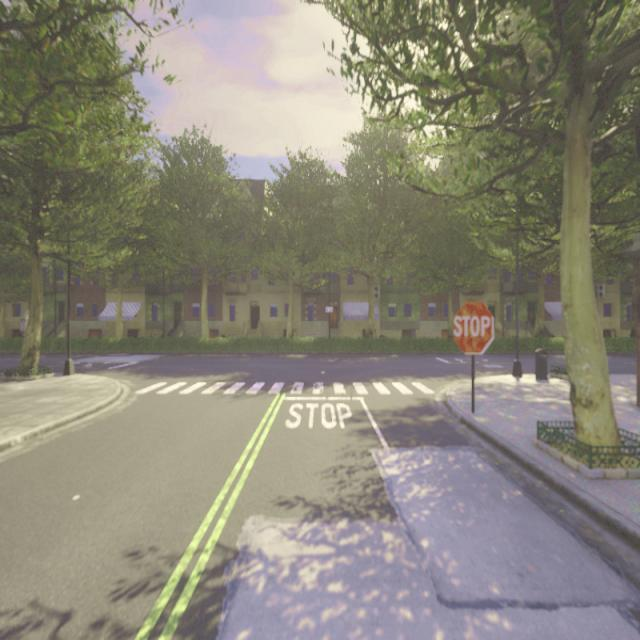stop sign: (450, 298, 496, 356), (452, 313, 491, 339)
